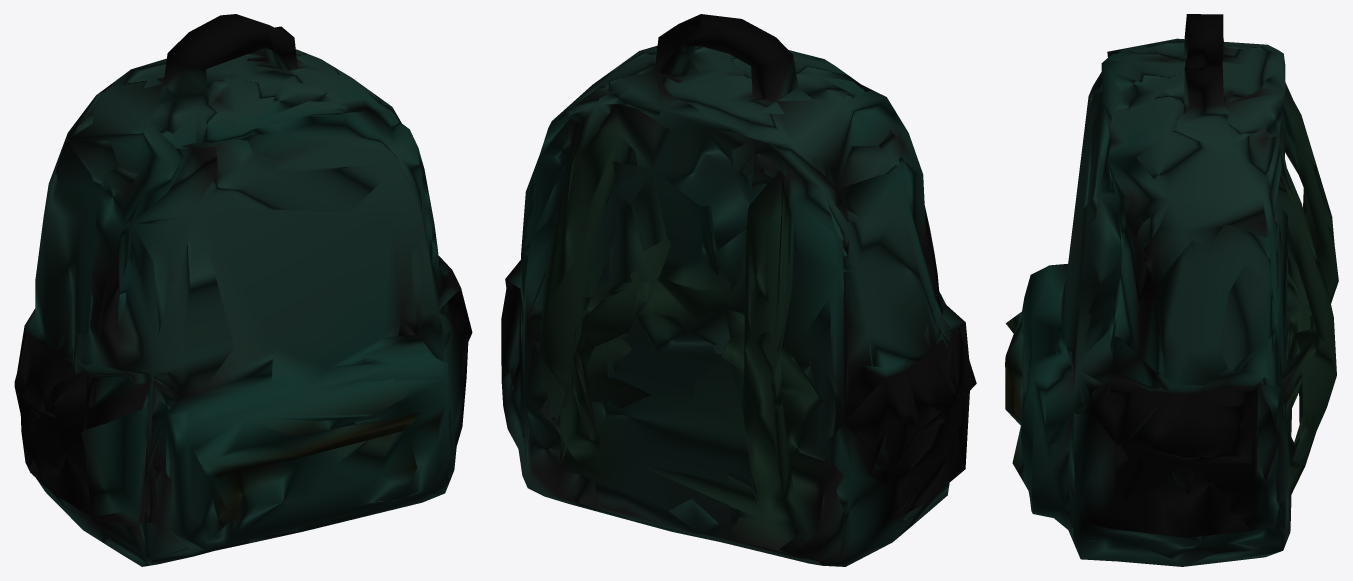
The model's file is gen3d-backpack-lod0.glb.
The picture shows the model from 3 angles, left to right: view 1: azimuth 30°, elevation 25°; view 2: azimuth 150°, elevation 25°; view 3: azimuth 270°, elevation 25°; orthographic projection. The views are drawn at different scales.
Parts seen in each view (by area): view 1: part_0; view 2: part_0; view 3: part_0.
Boxes of the visible parts, box(x1,y1,x2,y2) form: part_0: box(14, 14, 472, 566); part_0: box(501, 14, 976, 566); part_0: box(1005, 14, 1338, 566).
Bounding box in the file's own units: 0.9215 × 0.9996 × 0.6367.
